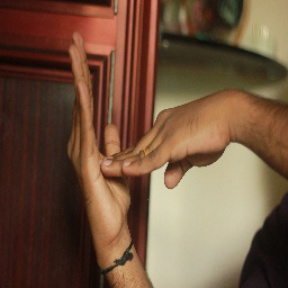Z: (58, 28, 236, 238)
